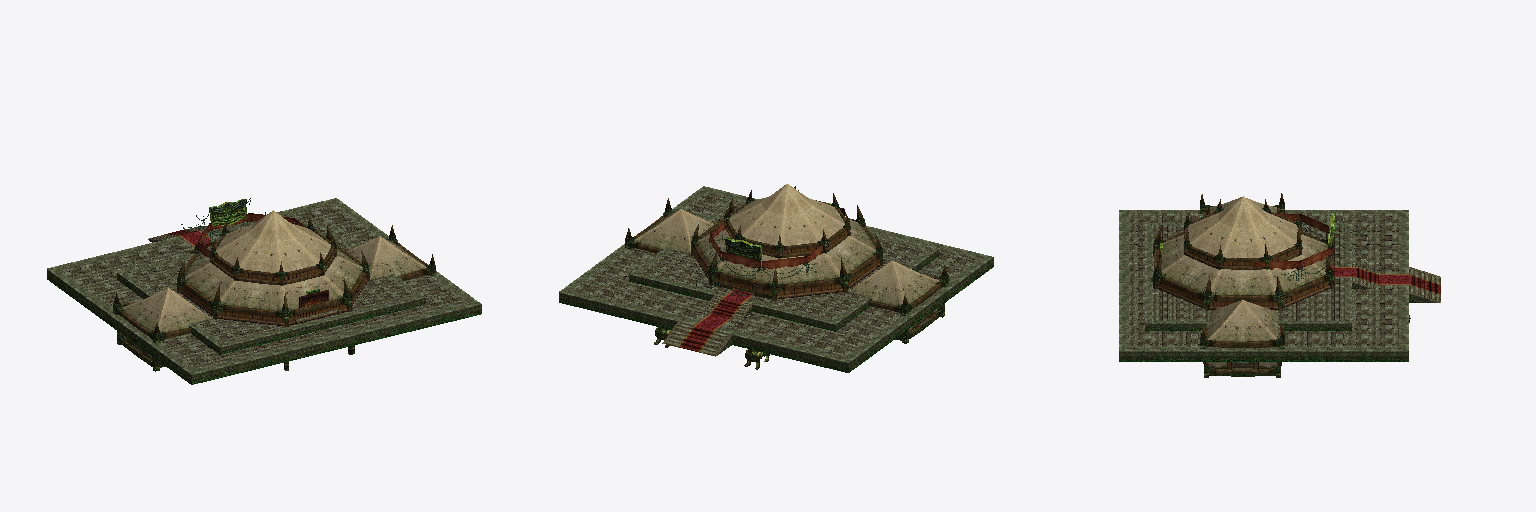
3 views of the same model, side by side, from view 1: azimuth 30°, elevation 25°; view 2: azimuth 150°, elevation 25°; view 3: azimuth 270°, elevation 25° (orthographic).
Parts seen in each view (by area): view 1: 3d0e9598_obj, 3d0ea0a0_obj, 50792f98_obj; view 2: 3d0e9598_obj, 3d0ea0a0_obj, 50792f98_obj; view 3: 3d0e9598_obj, 3d0ea0a0_obj, 50792f98_obj.
Part boxes in pixels (x1,y1,x2,y2): 3d0e9598_obj: (47, 198, 481, 384); 3d0ea0a0_obj: (113, 210, 435, 371); 50792f98_obj: (181, 198, 305, 261); 3d0e9598_obj: (559, 186, 993, 372); 3d0ea0a0_obj: (625, 184, 948, 369); 50792f98_obj: (696, 222, 821, 301); 3d0e9598_obj: (1119, 210, 1440, 361); 3d0ea0a0_obj: (1153, 193, 1410, 377); 50792f98_obj: (1253, 212, 1368, 280).
Bounding box in the file's own units: 64.85 × 25.41 × 62.41.
Materials: 3 (3 with a texture image).